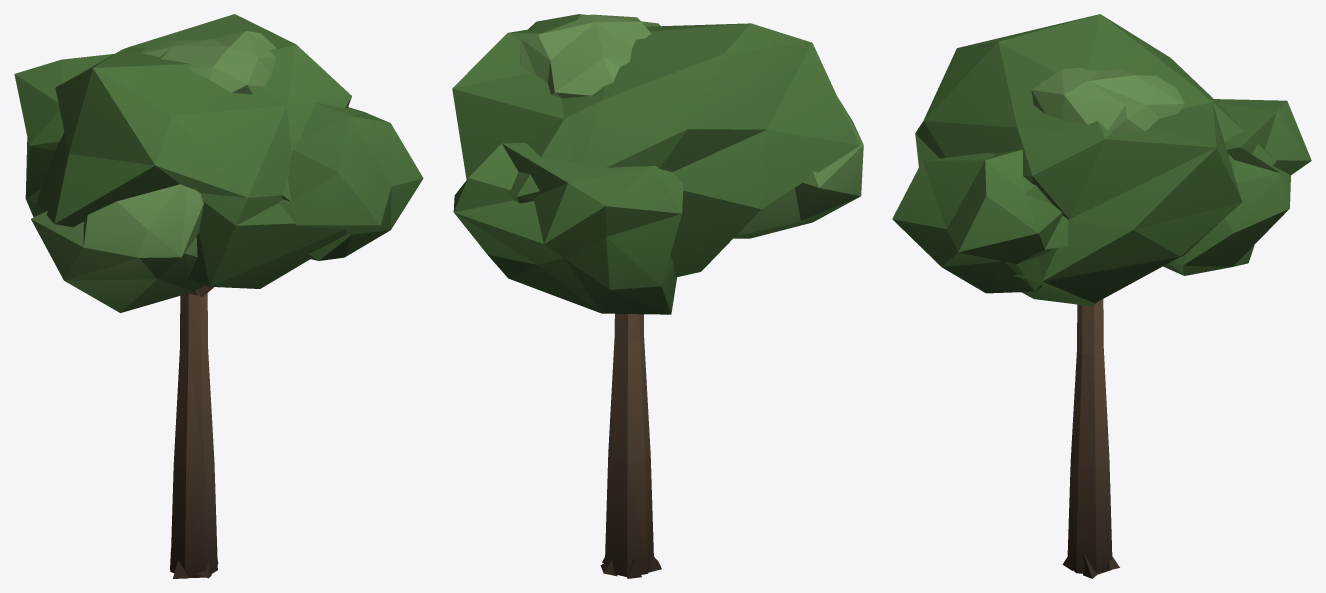
File: shade-tree.glb
3 views of the same model, side by side, from view 1: azimuth 30°, elevation 25°; view 2: azimuth 150°, elevation 25°; view 3: azimuth 270°, elevation 25° (orthographic). The views are drawn at different scales.
Parts seen in each view (by area): view 1: shade_tree; view 2: shade_tree; view 3: shade_tree.
Part boxes in pixels (x1,y1,x2,y2): shade_tree: (14,14,423,578); shade_tree: (452,14,863,578); shade_tree: (892,14,1311,578).
Bounding box in the file's own units: 4.88 × 7.09 × 5.31.
